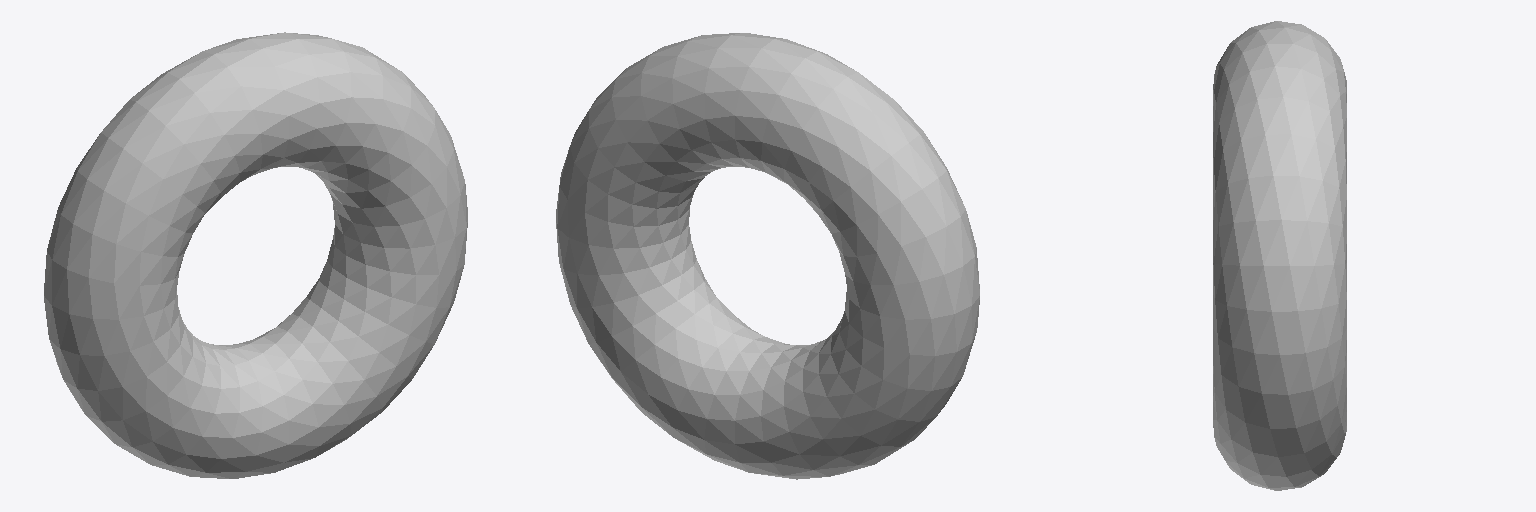
Rendered from torus-twist10.obj.
3 views of the same model, side by side, from view 1: azimuth 30°, elevation 25°; view 2: azimuth 150°, elevation 25°; view 3: azimuth 270°, elevation 25° (orthographic).
Visible parts, largest first — view 1: torus-twist10_Cylinder.002; view 2: torus-twist10_Cylinder.002; view 3: torus-twist10_Cylinder.002.
Part boxes in pixels (x1,y1,x2,y2): torus-twist10_Cylinder.002: (44, 32, 467, 478); torus-twist10_Cylinder.002: (556, 33, 979, 479); torus-twist10_Cylinder.002: (1213, 21, 1346, 490).
Size of the model in its own units: 2.8 by 2.78 by 0.8.